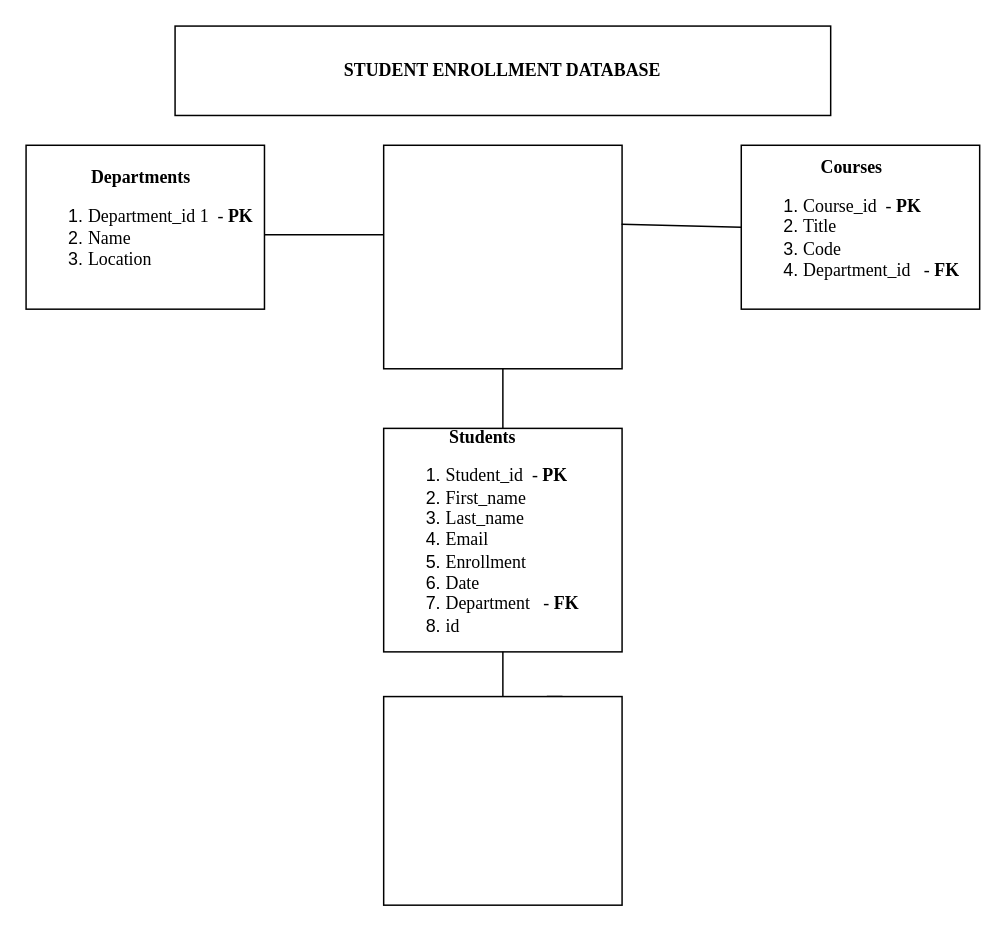
Some shapes in this 1006 by 931 pixel diagram are drawn without their labels. The shapes that lost their labels are listed below. From the top down, each one's centre as x and y in pixels, then its label:
At (x=502, y=256): "Instructors Instructor_id - PK id First_name Last_name Email Department - FK id".
At (x=502, y=800): "Enrollments Enrollment - PK Student_id - FK Course_id - FK Enrollment date Grade".
